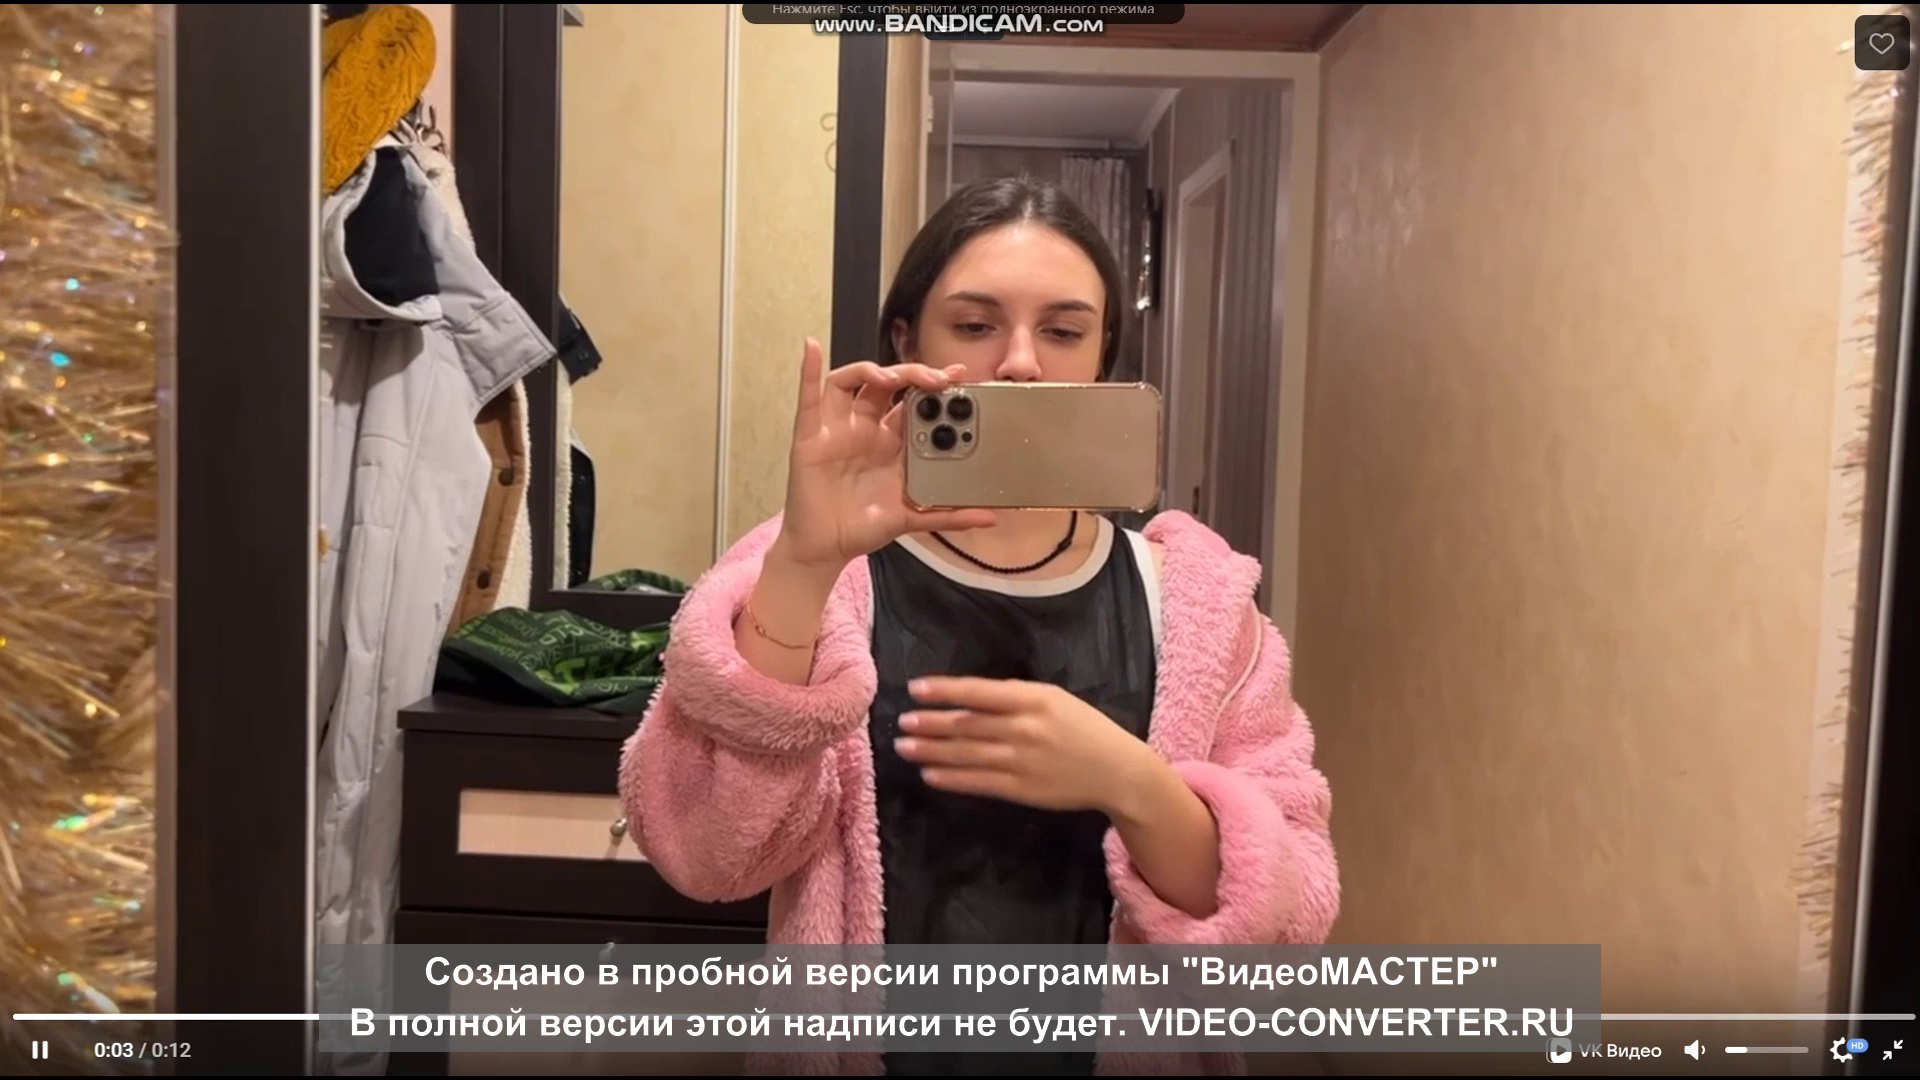Кисть: (893, 669, 1129, 812)
